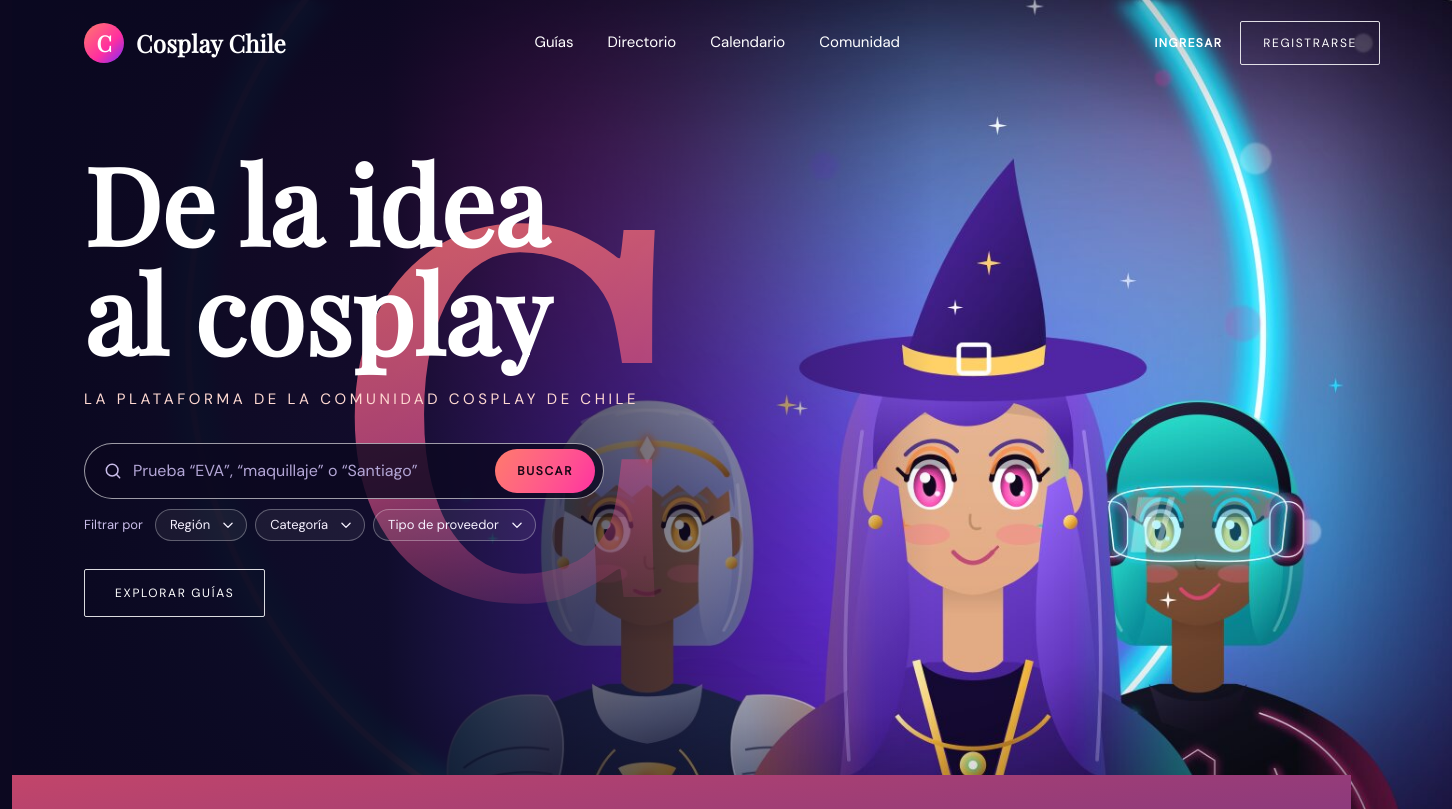
Test: Inicio › el buscador de la portada ofrece sugerencias y busca con Enter
The image size is (1452, 809).
Type "eva" into the dropdown named "Buscar guías, profesionales" at coordinates (309, 471), box [133, 459, 485, 483]
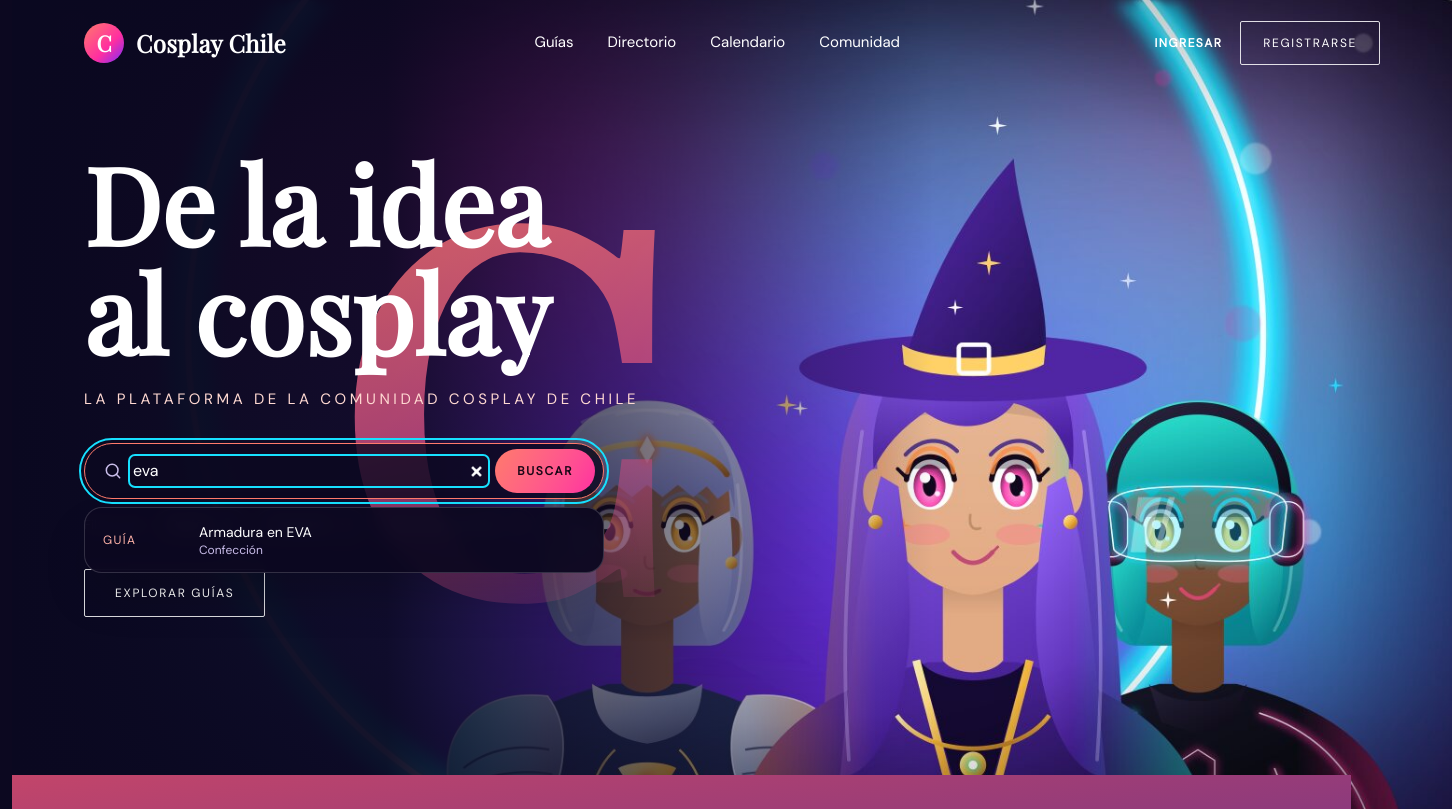
Check: the option "Guía Armadura en EVA Confección" is shown, box [103, 523, 312, 558]
Press Enter
(page scrolled)
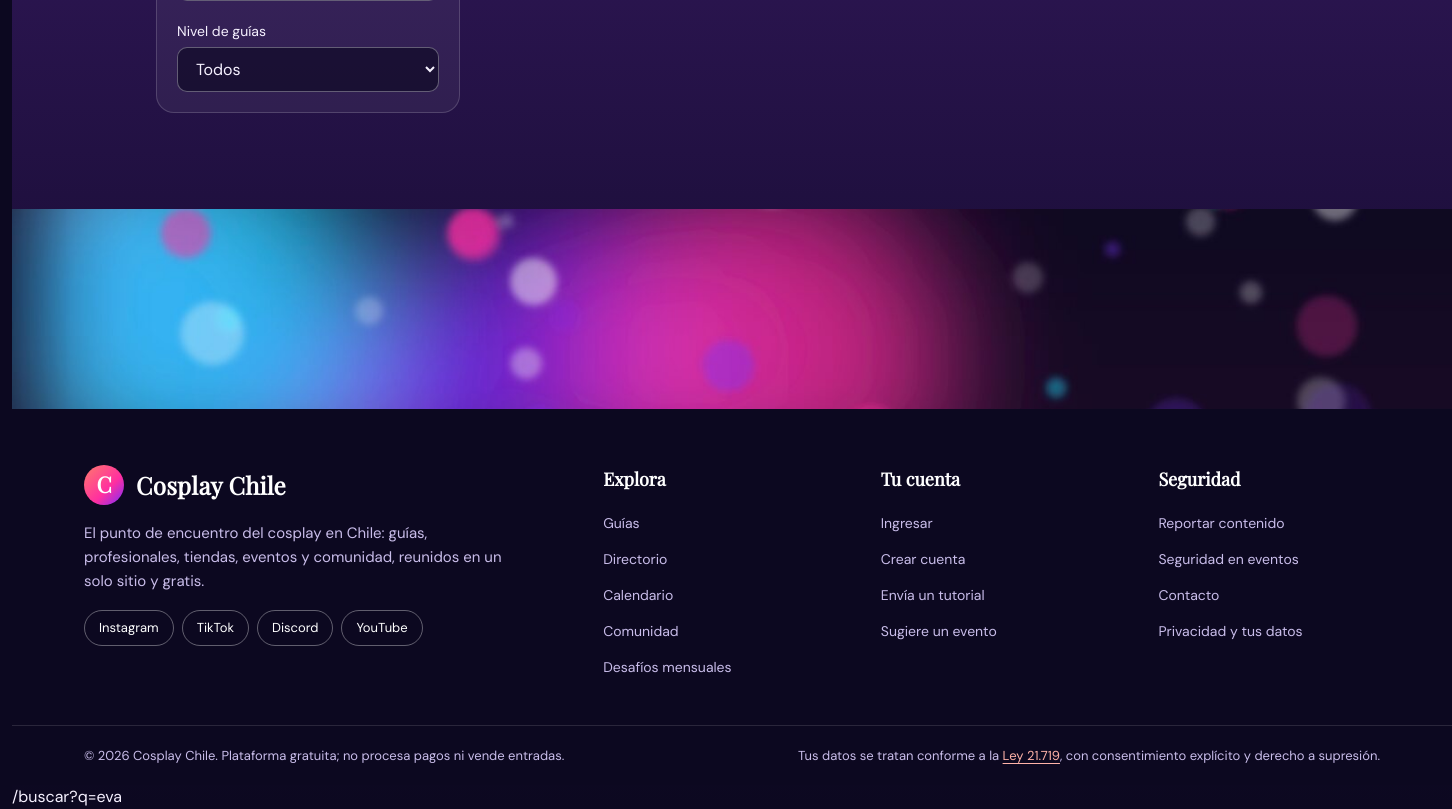
Check: the text with test id "ubicacion" reads "/buscar?q=eva", box [12, 786, 122, 807]
